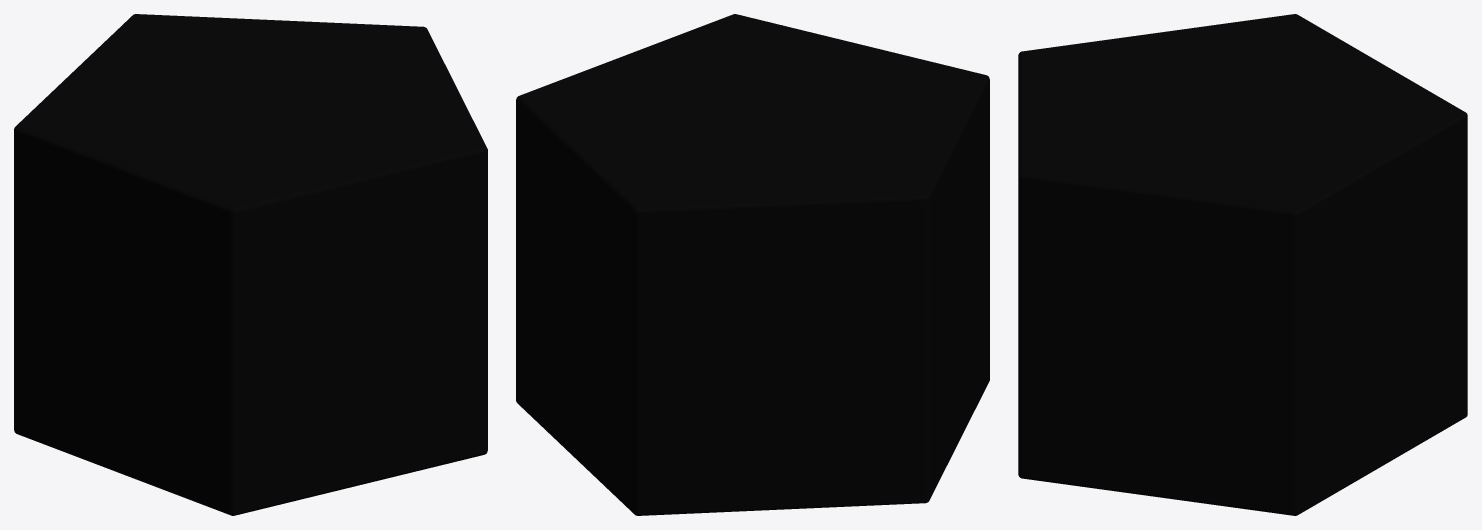
File: humboldt_pentagon.gltf
3 renders of one model, left to right at view 1: azimuth 30°, elevation 25°; view 2: azimuth 150°, elevation 25°; view 3: azimuth 270°, elevation 25°, orthographic.
Parts seen in each view (by area): view 1: Cylinder; view 2: Cylinder; view 3: Cylinder.
Boxes of the visible parts, <box> form: Cylinder: <box>14,14,487,515</box>; Cylinder: <box>516,14,989,515</box>; Cylinder: <box>1018,14,1467,515</box>.
Size of the model in its own units: 1.89 by 1.35 by 1.8.
1 material, 1 textured.
